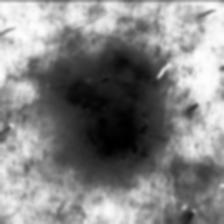Potentially Malignant Skin Tumors: (58, 50, 167, 168)
